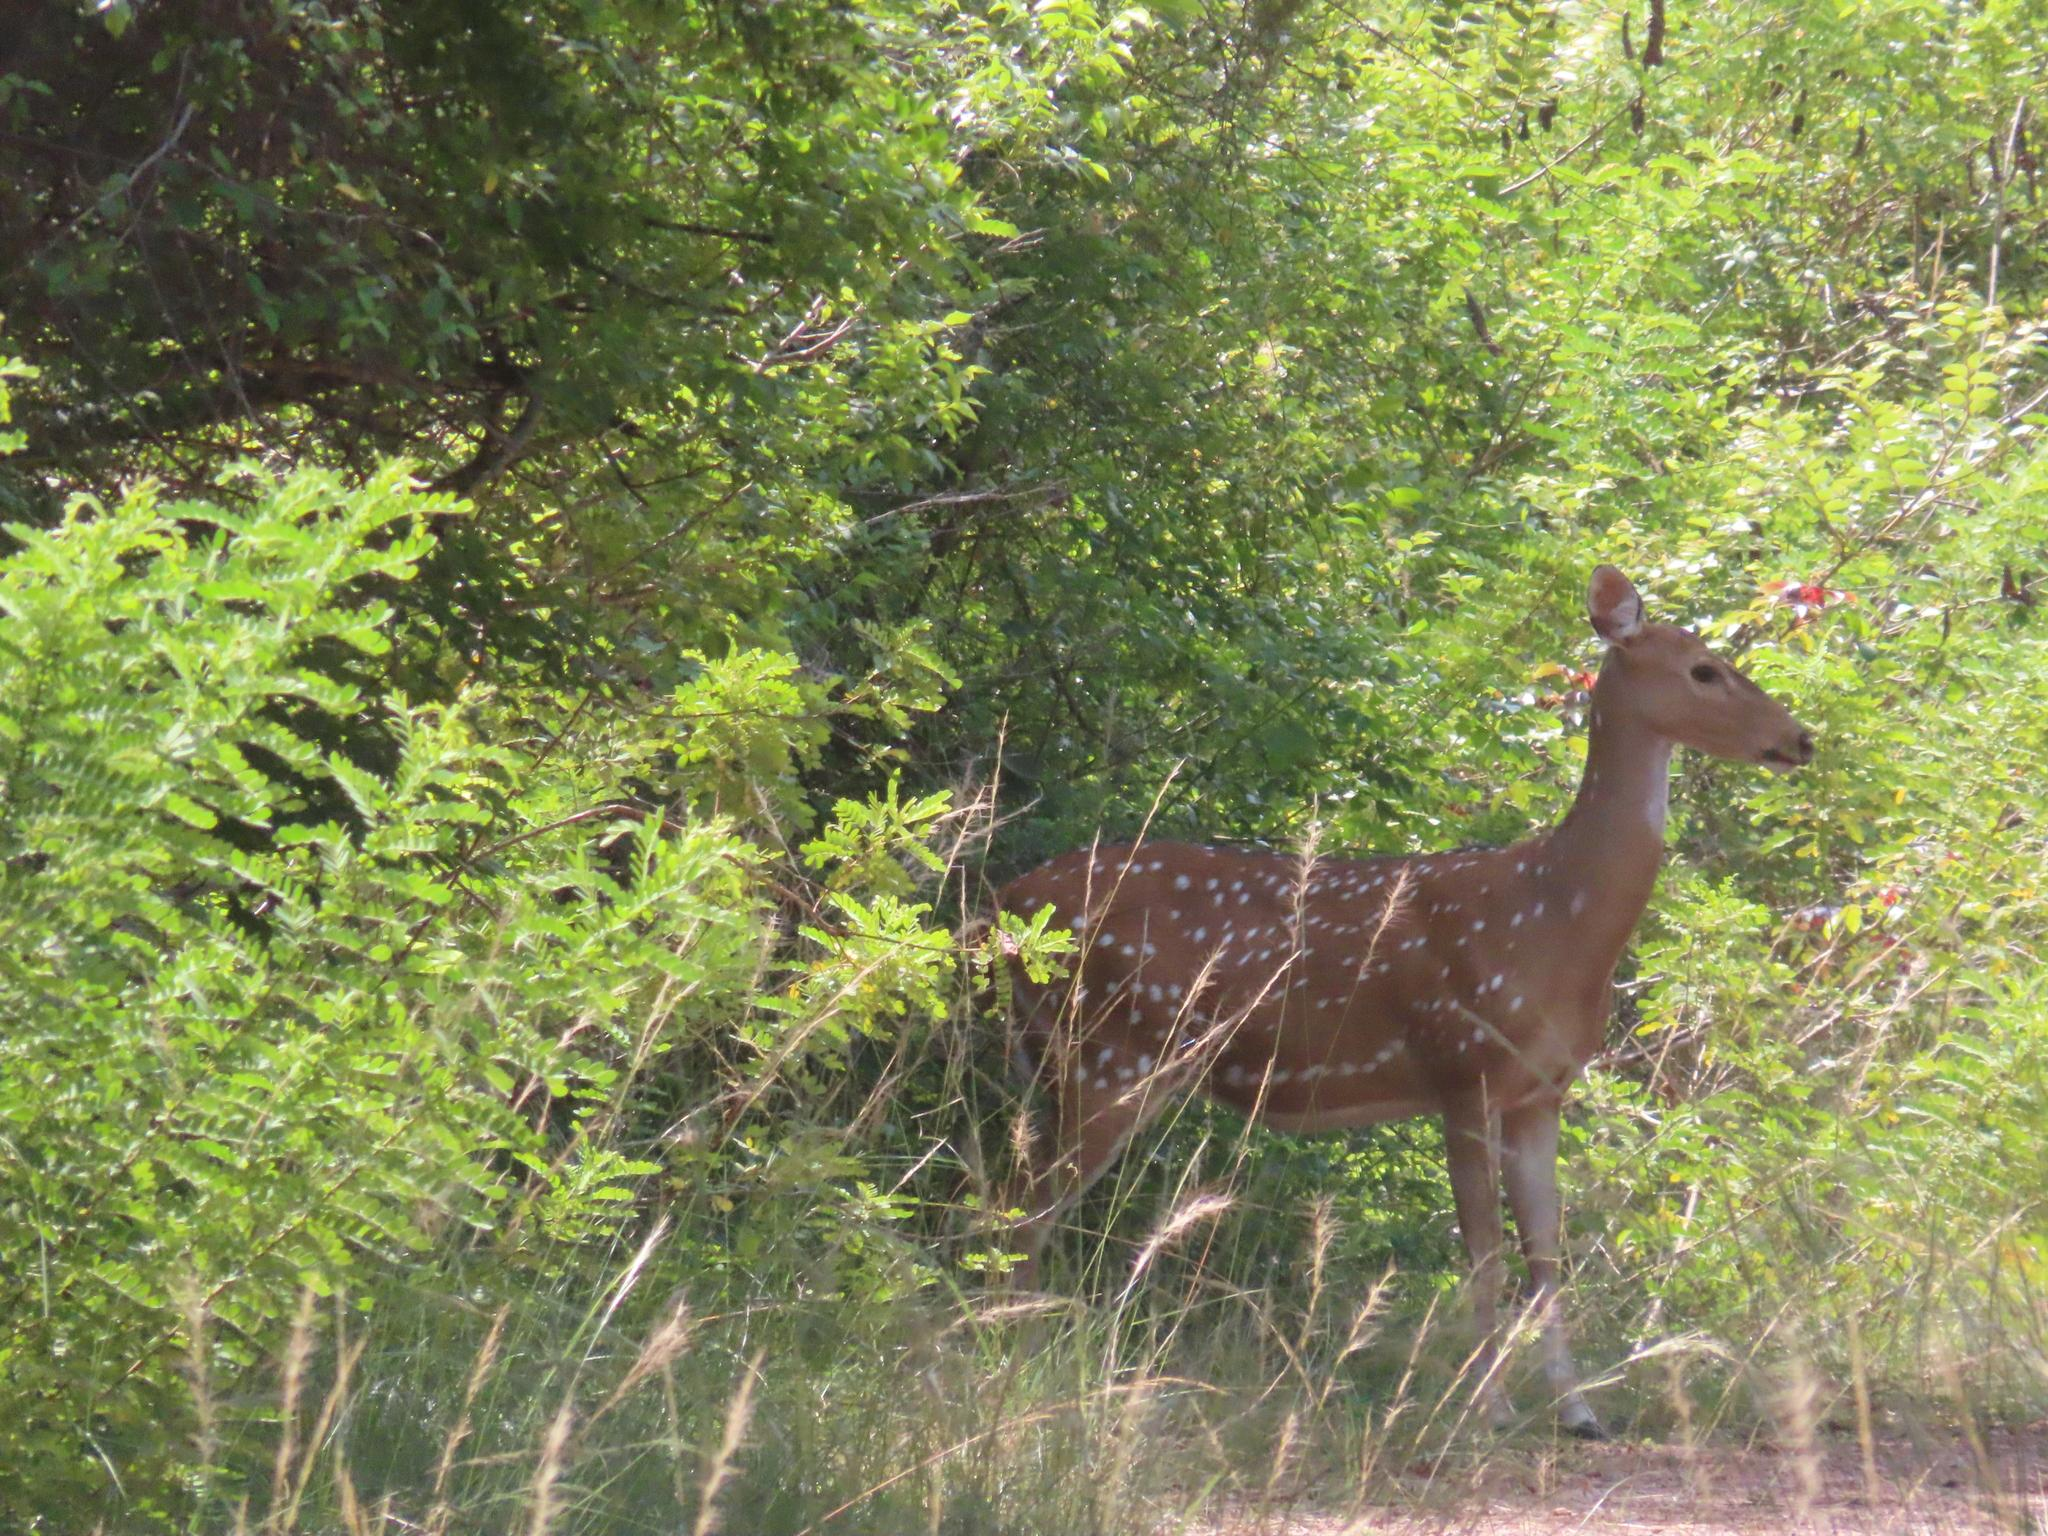Deer: (998, 566, 1814, 1425)
